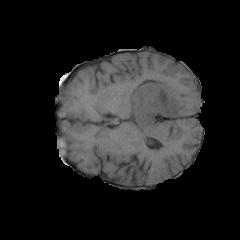glioma: (129, 78, 180, 147)
